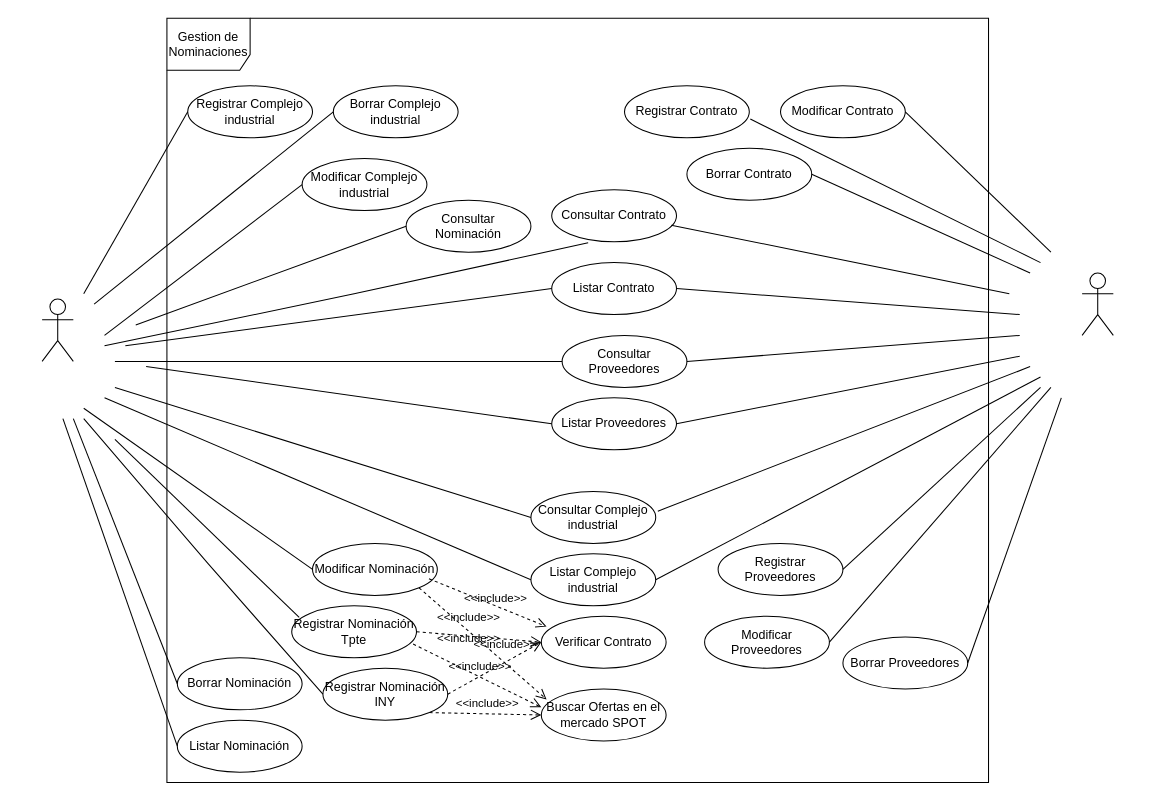
Image size: 1153x801. Some labels were removed from this diagram. The box of each missing label's shape, as (x1, y1, x2, y2) in pixels:
Administrador de contratos: (1081, 272, 1113, 335)
Gestor de Nominaciones: (41, 298, 73, 361)
